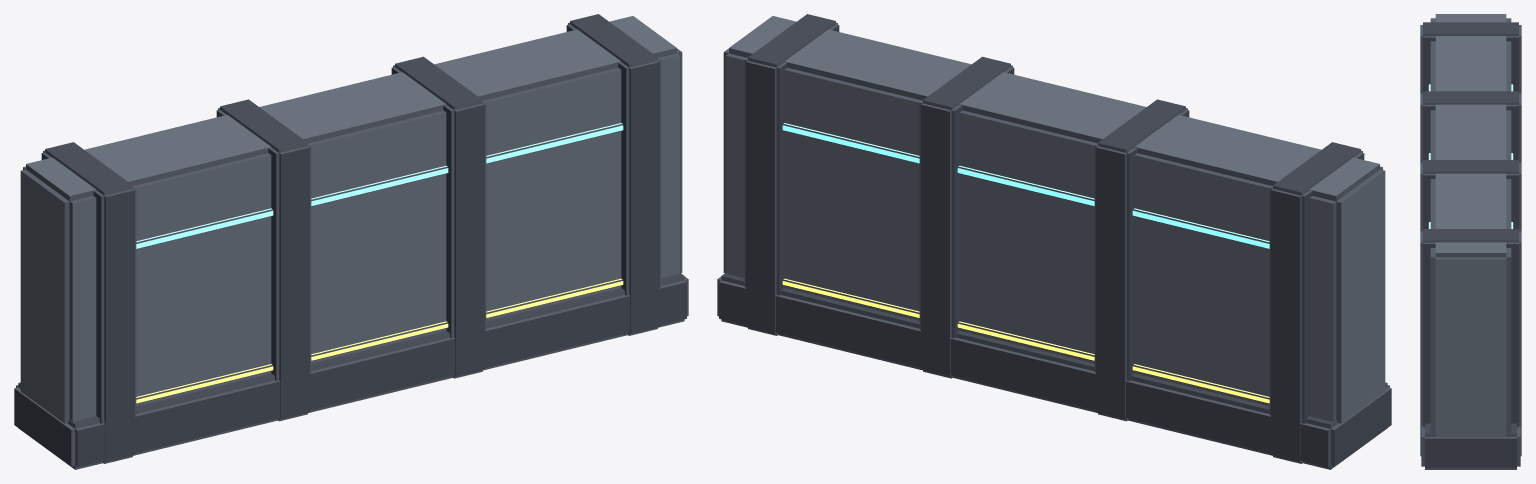
Rendered from TILE_WallStraight.glb.
3 views of the same model, side by side, from view 1: azimuth 30°, elevation 25°; view 2: azimuth 150°, elevation 25°; view 3: azimuth 270°, elevation 25° (orthographic). The views are drawn at different scales.
Parts seen in each view (by area): view 1: TILE_WallStraight; view 2: TILE_WallStraight; view 3: TILE_WallStraight.
Boxes of the visible parts, box(x1,y1,x2,y2) form: TILE_WallStraight: box(14, 14, 688, 469); TILE_WallStraight: box(717, 14, 1391, 469); TILE_WallStraight: box(1420, 14, 1521, 469).
Bounding box in the file's own units: 6 × 2.52 × 1.06.
